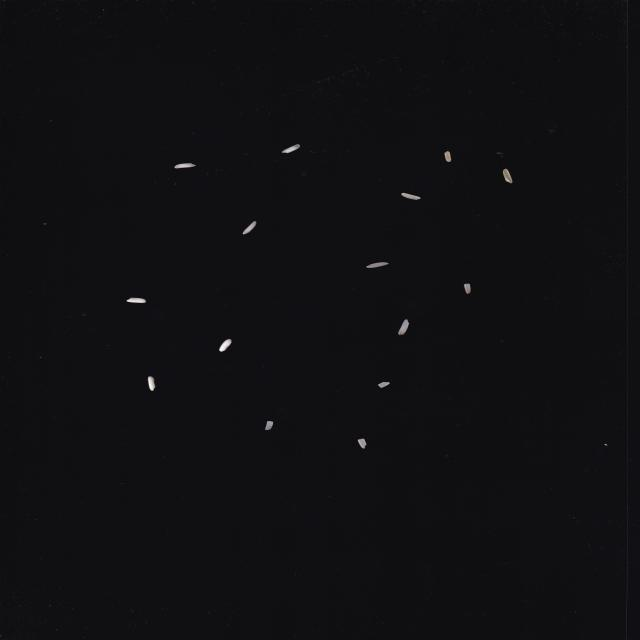Chalky: (242, 221, 257, 235), (282, 144, 300, 153), (174, 162, 197, 168)
Not: (397, 319, 410, 335), (218, 338, 232, 352), (502, 168, 513, 184), (147, 376, 157, 392), (401, 192, 421, 200), (366, 262, 389, 268), (126, 298, 147, 304), (357, 438, 367, 449), (264, 420, 274, 430), (464, 283, 471, 294), (444, 151, 451, 162), (378, 382, 390, 388)
